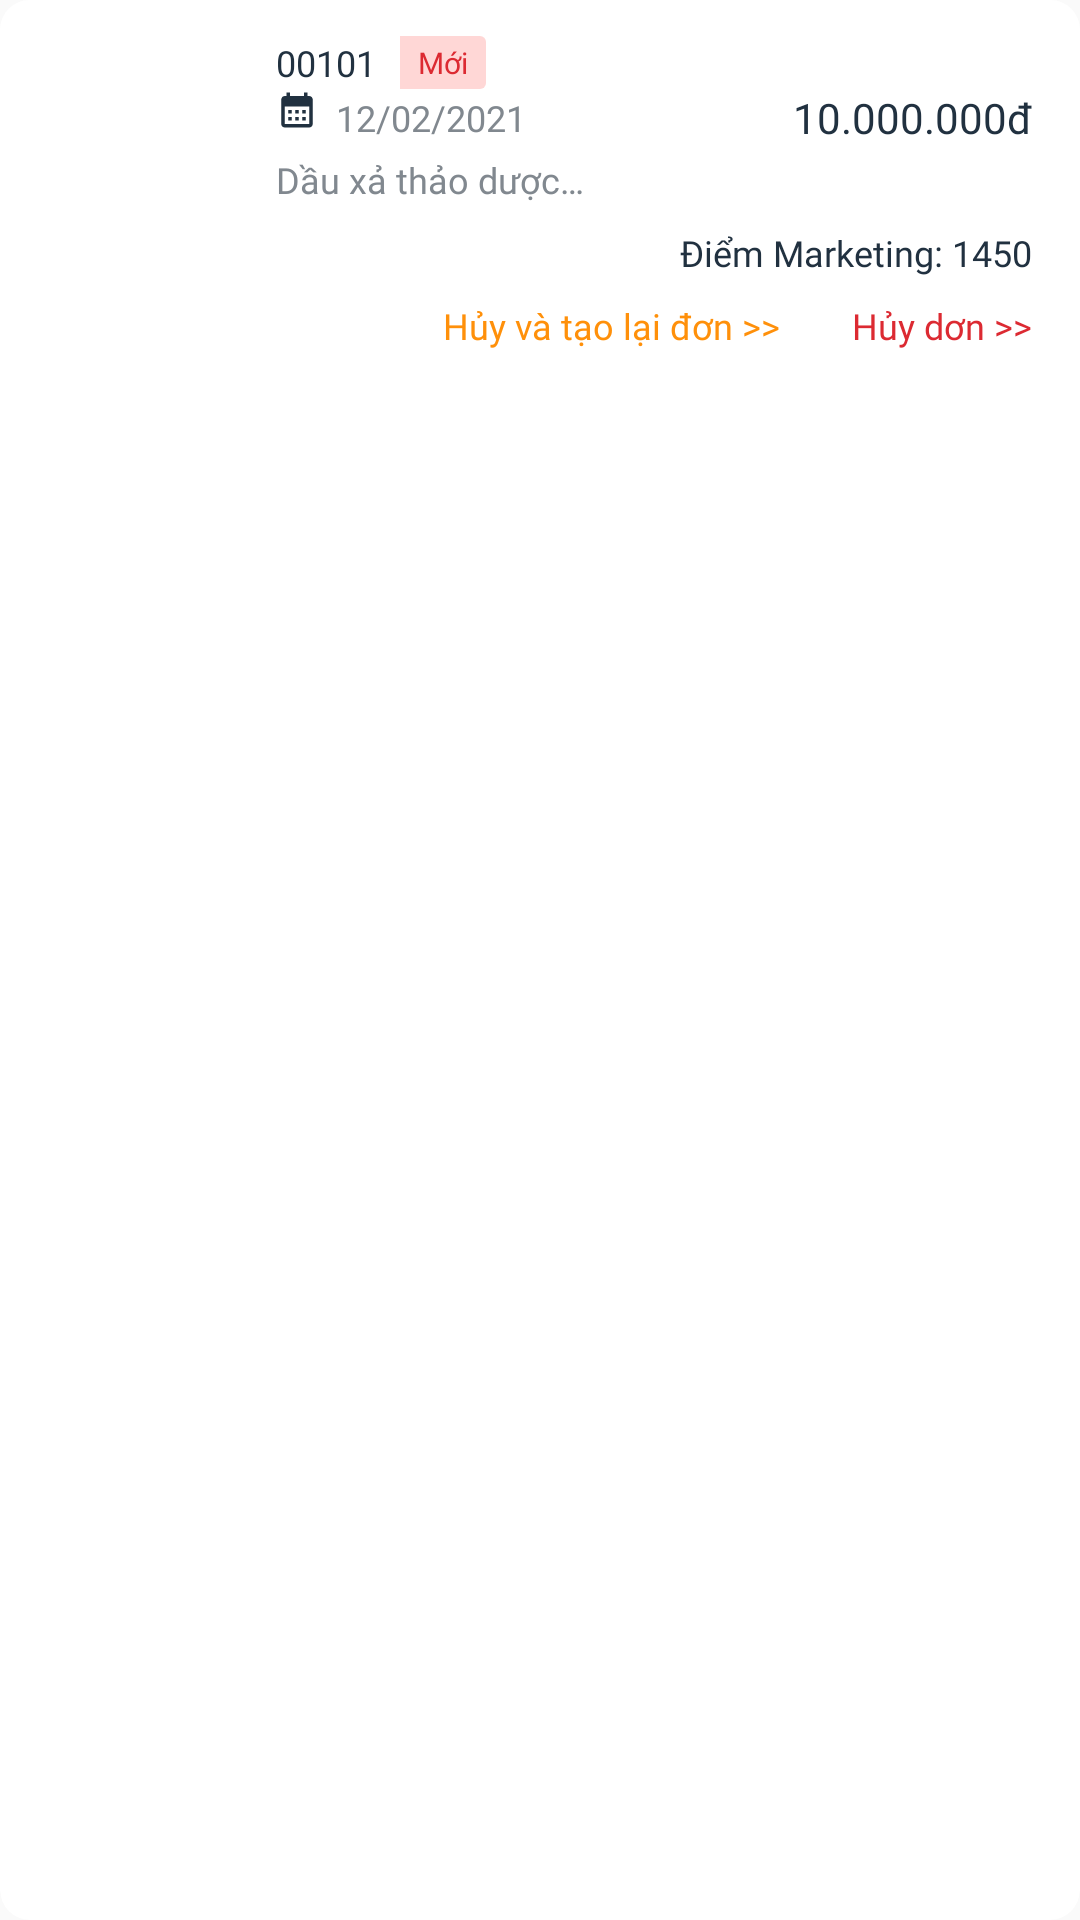

Where icons sit on this 1080 × 1920 app screen, as {"left": x1, "top": y1, "right": x2, "bottom": y2}:
calendar: {"left": 281, "top": 92, "right": 313, "bottom": 128}
